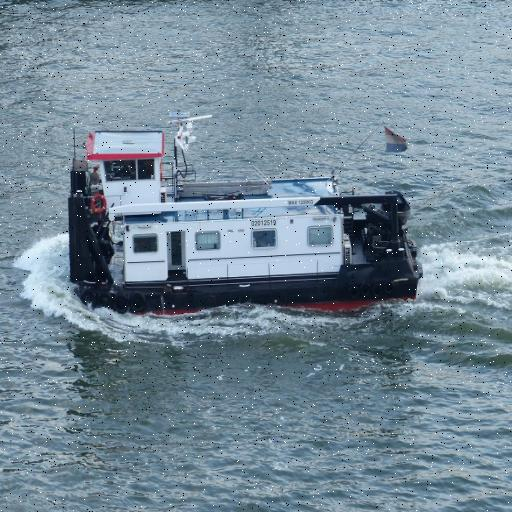tugboat: (61, 105, 430, 322)
